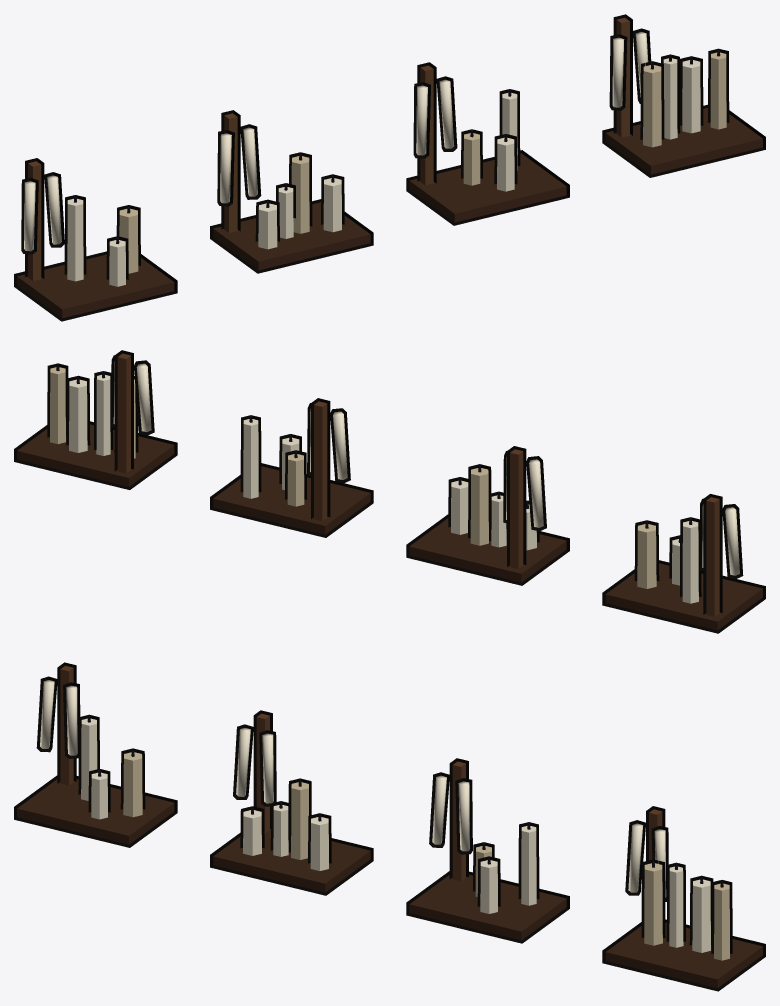
The model's file is candles.glb.
3 views of the same model, one above another, from view 1: azimuth 30°, elevation 25°; view 2: azimuth 150°, elevation 25°; view 3: azimuth 330°, elevation 25° (orthographic).
Parts seen in each view (by area): view 1: Prop_town_candles; view 2: Prop_town_candles; view 3: Prop_town_candles.
Part boxes in pixels (left/top/right/bottom): Prop_town_candles: left=14, top=14, right=765, bottom=321; Prop_town_candles: left=14, top=350, right=765, bottom=633; Prop_town_candles: left=14, top=662, right=765, bottom=991.
Size of the model in its own units: 2.54 by 0.4339 by 0.2939.
